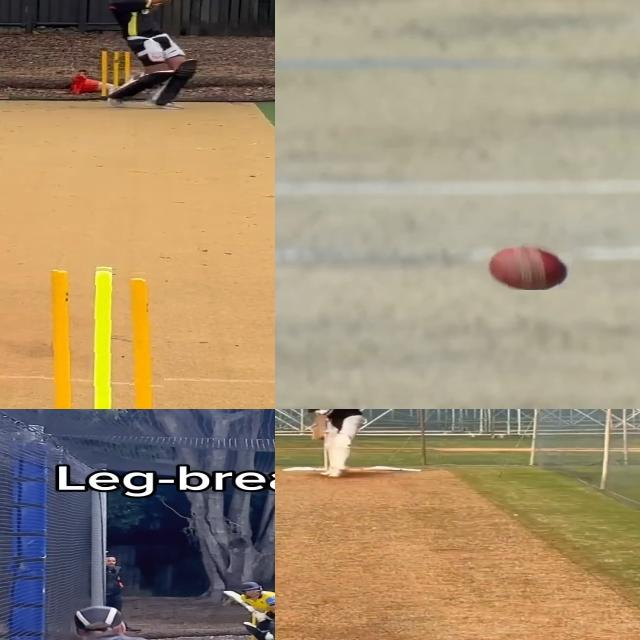Cricket ball: (481, 241, 573, 290), (264, 633, 275, 640)
Stumps: (32, 264, 163, 409)
